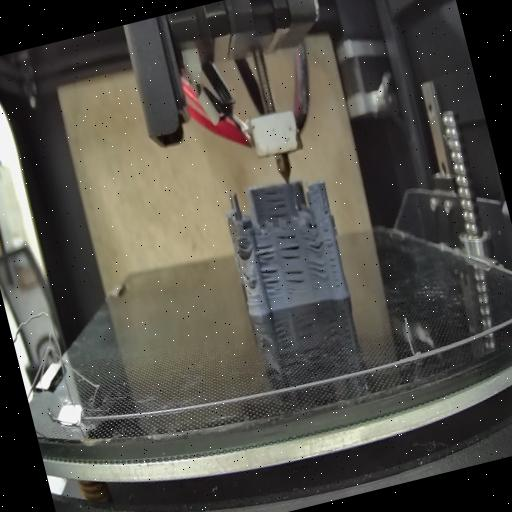cracks: (318, 222, 346, 290), (274, 229, 304, 264), (260, 186, 290, 221), (259, 264, 285, 298), (282, 264, 308, 296), (304, 256, 330, 284), (303, 232, 325, 256), (254, 239, 276, 263), (236, 242, 250, 260), (240, 268, 252, 284), (320, 200, 330, 216)
